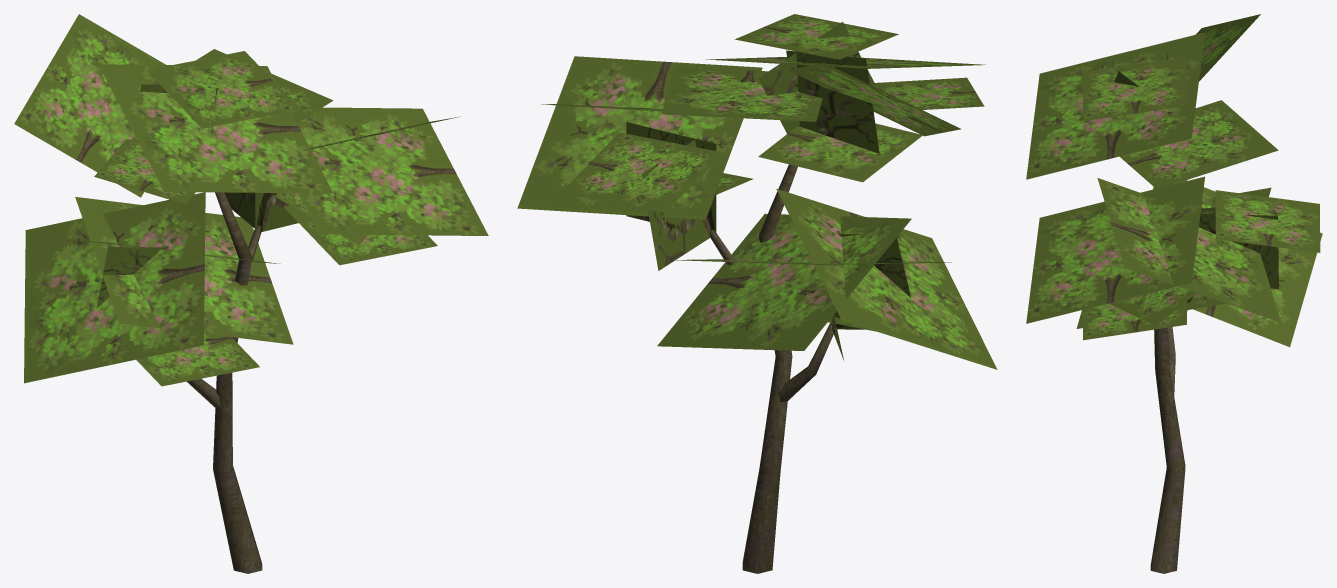
File: tree_2.glb
3 views of the same model, side by side, from view 1: azimuth 30°, elevation 25°; view 2: azimuth 150°, elevation 25°; view 3: azimuth 270°, elevation 25° (orthographic). The views are drawn at different scales.
Parts seen in each view (by area): view 1: tree; view 2: tree; view 3: tree.
Boxes of the visible parts, x1,y1,x2,y2 form: tree: [14, 14, 488, 573]; tree: [517, 14, 997, 573]; tree: [1026, 14, 1322, 573].
Size of the model in its own units: 4.64 by 5.74 by 3.08.
2 materials, 2 textured.
